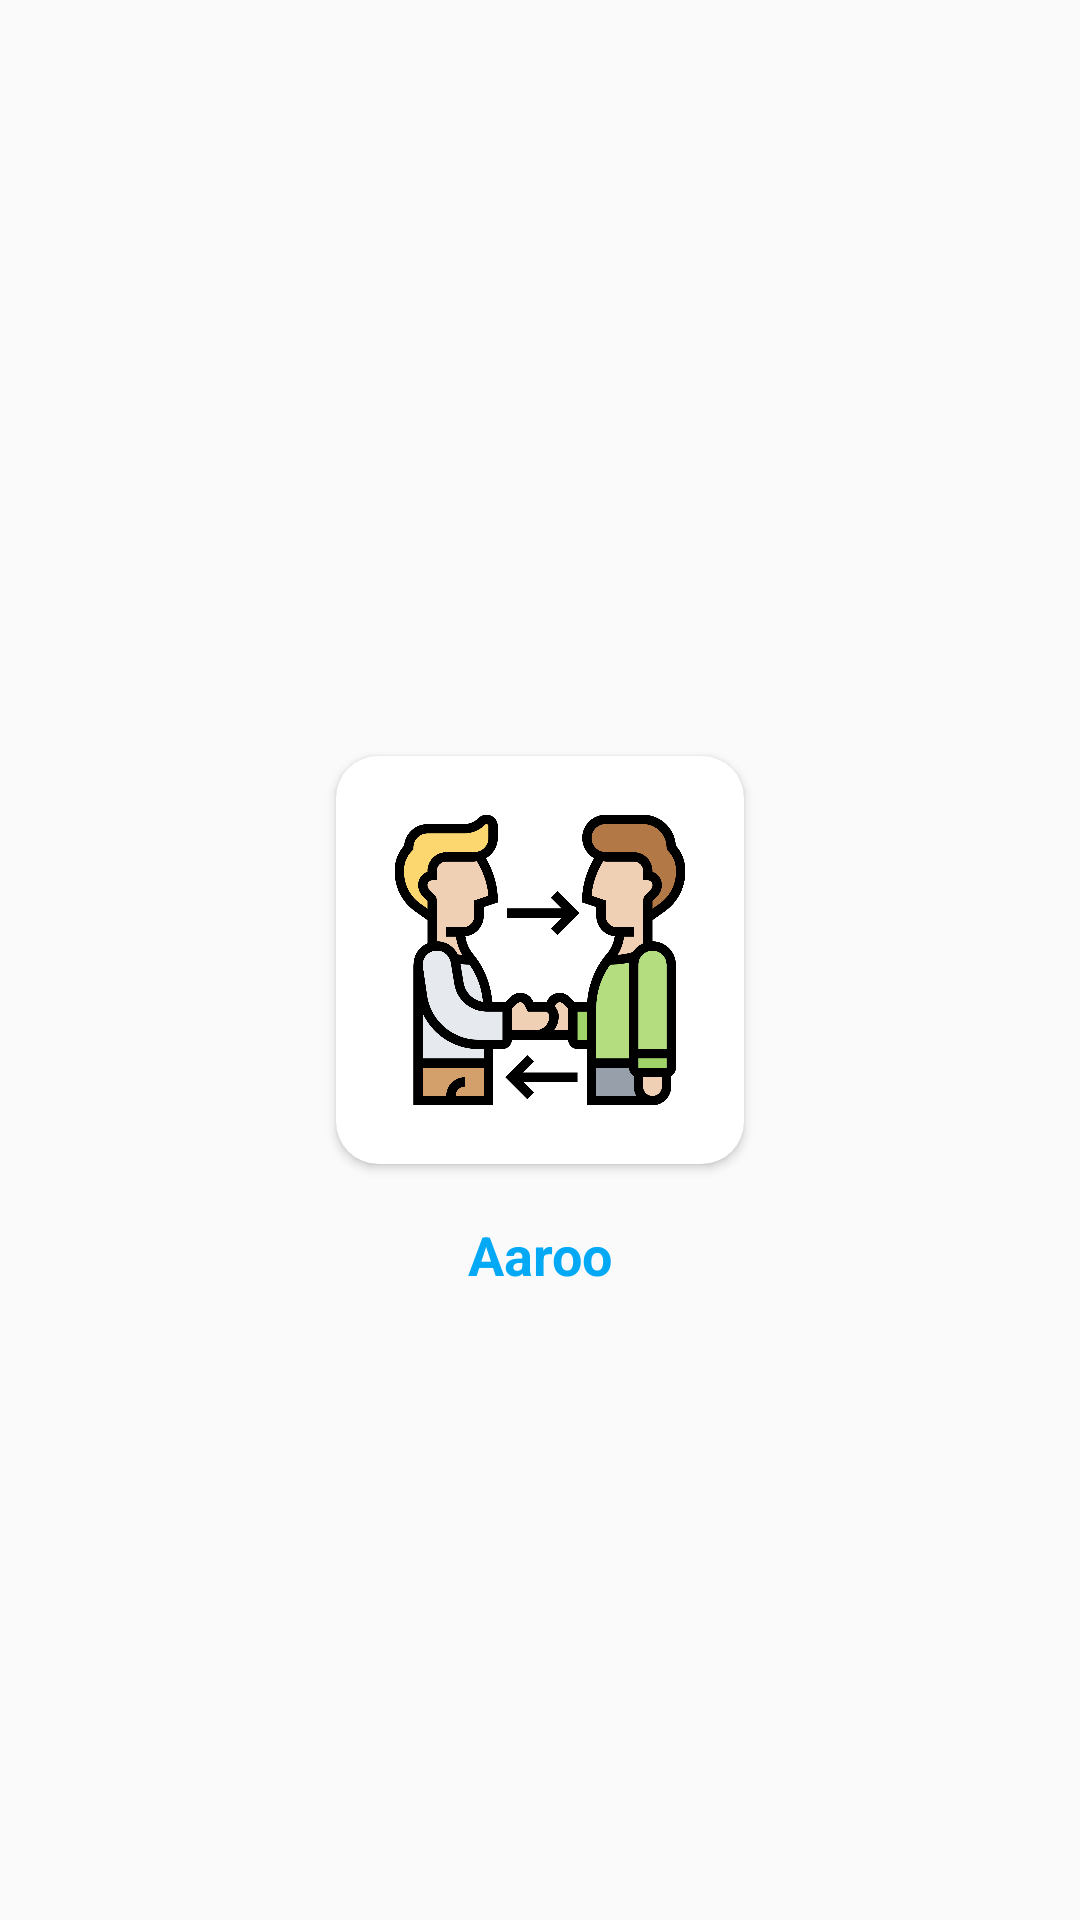

Icons on this 1080 x 1920 Android screen, each with its box as (x1=x1, y1=y1, x2=x2, y2=y2):
connection: (x1=395, y1=815, x2=685, y2=1105)
